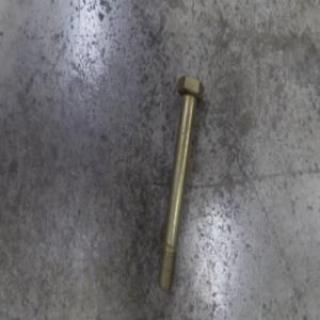Bolttrack_idkeyframe: (155, 73, 205, 292)
